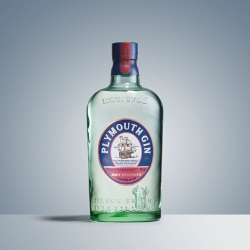glass_bottle: (83, 39, 165, 225)
